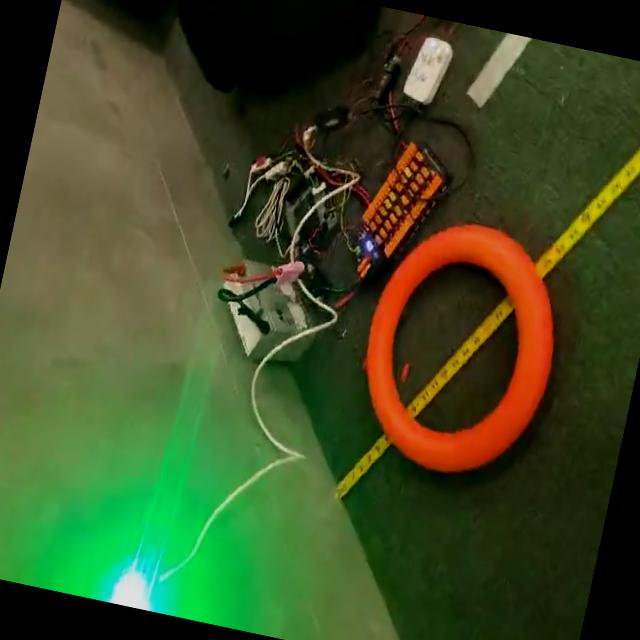note: (341, 205, 579, 492)
